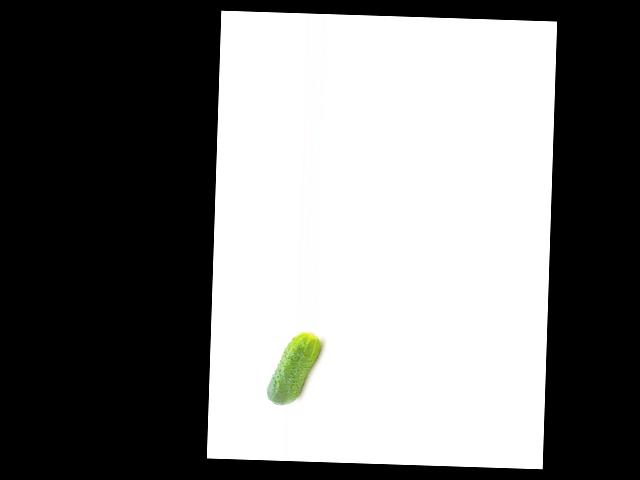cucumber: (266, 330, 321, 406)
